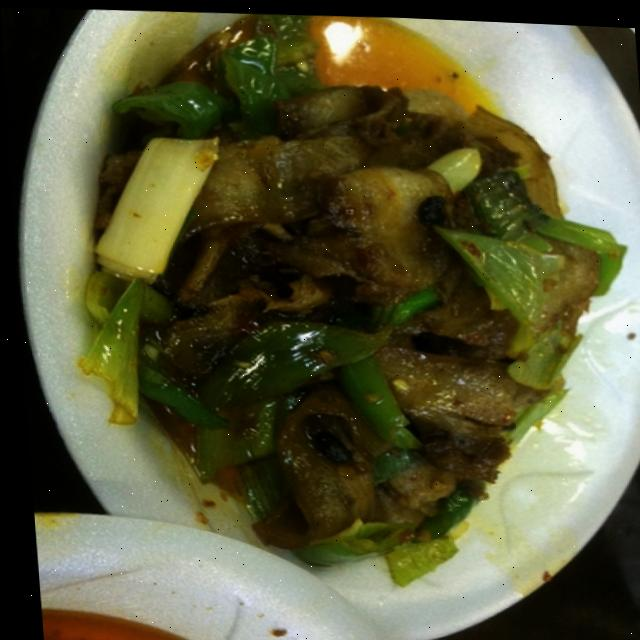猪肉菜式: (48, 2, 640, 577)
